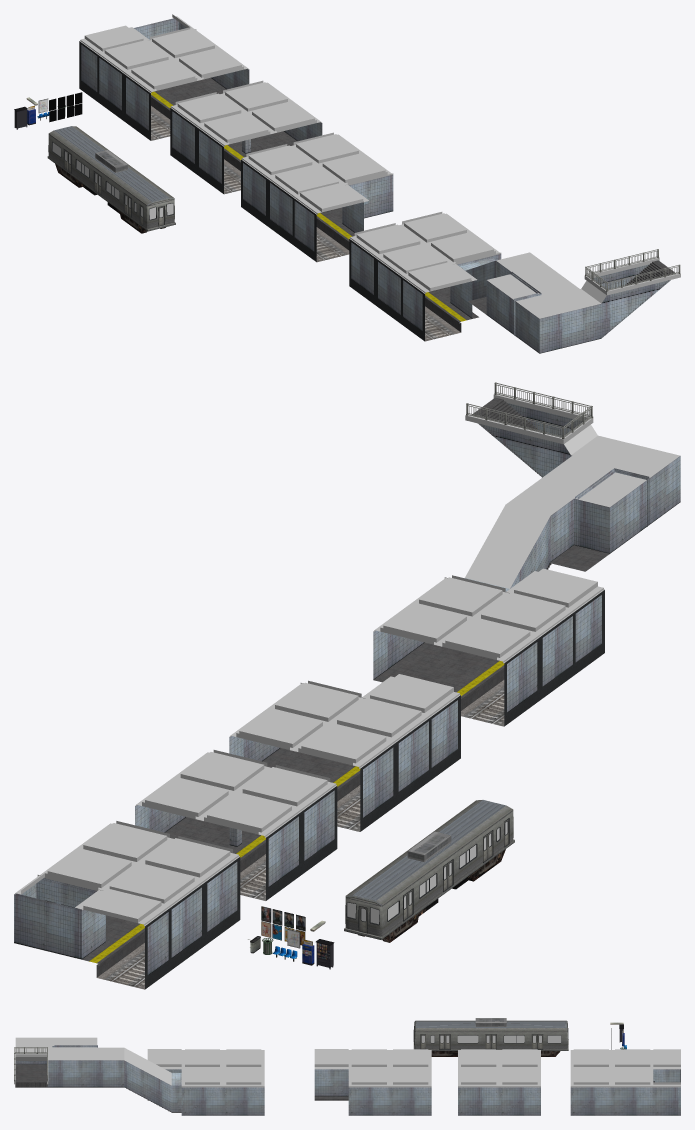
Rendered from Metro.fbx.
3 views of the same model, one above another, from view 1: azimuth 30°, elevation 25°; view 2: azimuth 150°, elevation 25°; view 3: azimuth 270°, elevation 25° (orthographic). The views are drawn at different scales.
Parts seen in each view (by area): view 1: St_03, St_02, St, St_01, subway_car, Railing, Stairs_01, Estruc; view 2: St_03, St_02, St, St_01, subway_car, Estruc, Railing, Stairs_01, Stairs; view 3: St_03, St_02, St, St_01, subway_car, Stairs, Estruc, Railing.
Part boxes in pixels (box(x1,y1,x2,y2)): St_03: box(349, 212, 680, 353); St_02: box(241, 132, 393, 262); St: box(79, 14, 249, 140); St_01: box(170, 80, 322, 194); subway_car: box(47, 126, 175, 233); Railing: box(585, 249, 680, 291); Stairs_01: box(602, 260, 675, 337); Estruc: box(134, 18, 178, 39); St_03: box(373, 394, 680, 726); St_02: box(229, 674, 460, 831); St: box(14, 821, 240, 989); St_01: box(135, 750, 337, 900); subway_car: box(344, 800, 514, 942); Estruc: box(14, 878, 105, 959); Railing: box(466, 382, 593, 438); Stairs_01: box(472, 397, 542, 477); Stairs: box(546, 502, 680, 571); St_03: box(14, 1037, 264, 1115); St_02: box(314, 1049, 431, 1115); St: box(570, 1049, 680, 1115); St_01: box(458, 1049, 540, 1115); subway_car: box(413, 1018, 568, 1056); Stairs: box(15, 1064, 171, 1111); Estruc: box(653, 1069, 680, 1082); Railing: box(14, 1047, 47, 1081).
Bounding box in the file's own units: 3690 × 1269 × 10070.
